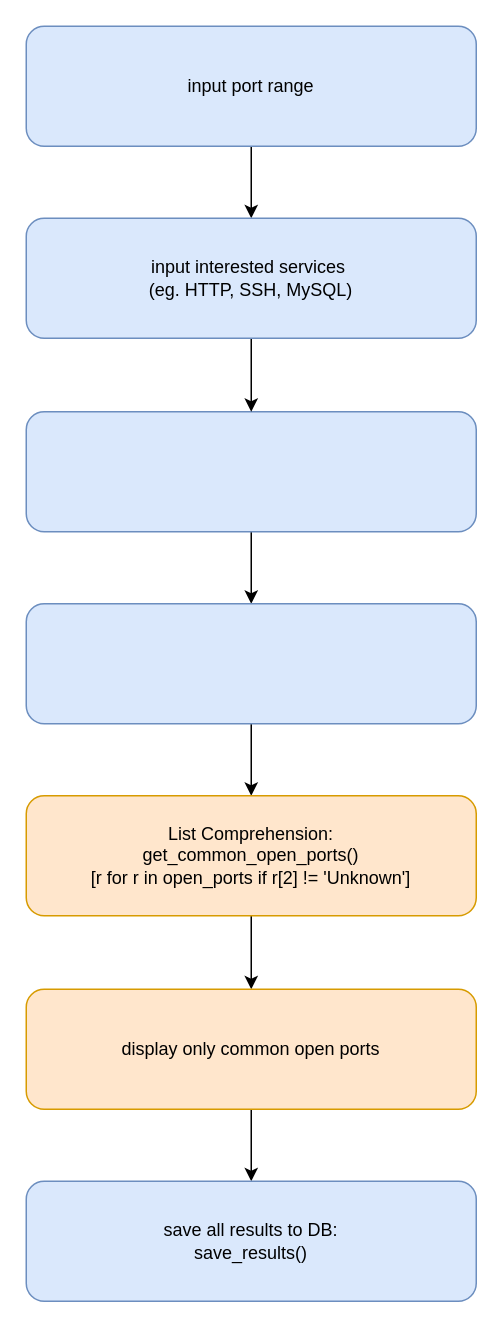
Image size: 503x1328. Some labels were removed from this diagram. Each missing label, with the box of its shape:
filter open state: get_open_ports(): (25, 602, 476, 724)
threaded scan: scan_results(): (25, 410, 476, 532)
